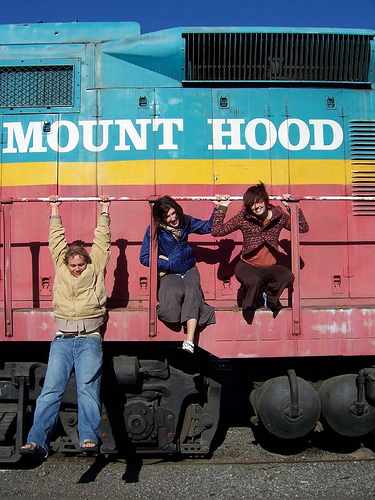without_mask: (153, 200, 186, 232), (62, 245, 91, 281), (245, 190, 272, 221)
